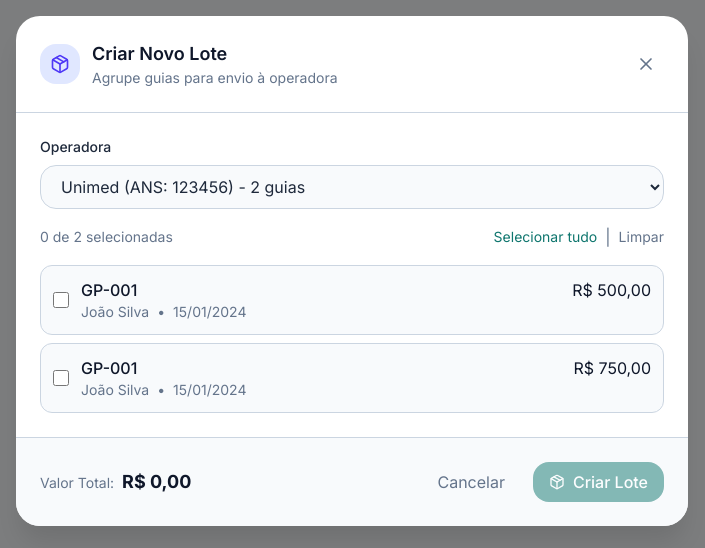
it: CreateLoteModal › should update total when guias are selected
// Click select all
Click the button "Selecionar tudo" at coordinates (545, 237), box [494, 227, 597, 247]
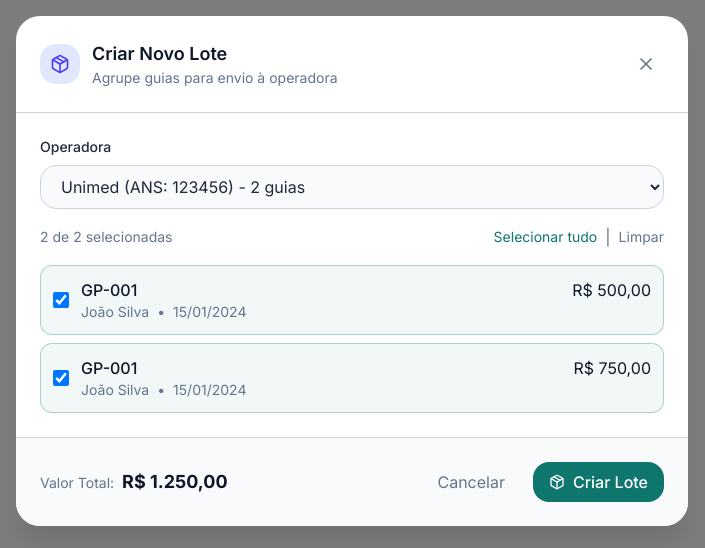
Expected: the text "Valor Total:" is shown, [40, 474, 114, 491]
Now the text "R$ 1.250,00" is shown, box [122, 471, 228, 492]
